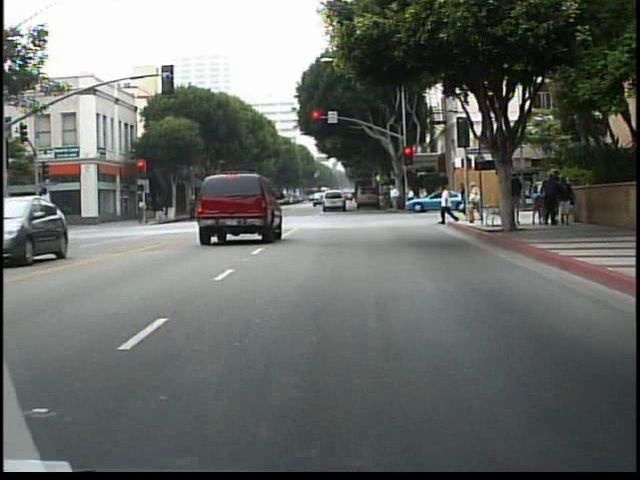person: (526, 181, 545, 227), (439, 184, 459, 226), (510, 172, 525, 228), (467, 180, 483, 226), (458, 182, 472, 225), (186, 192, 197, 224), (137, 197, 147, 226)
